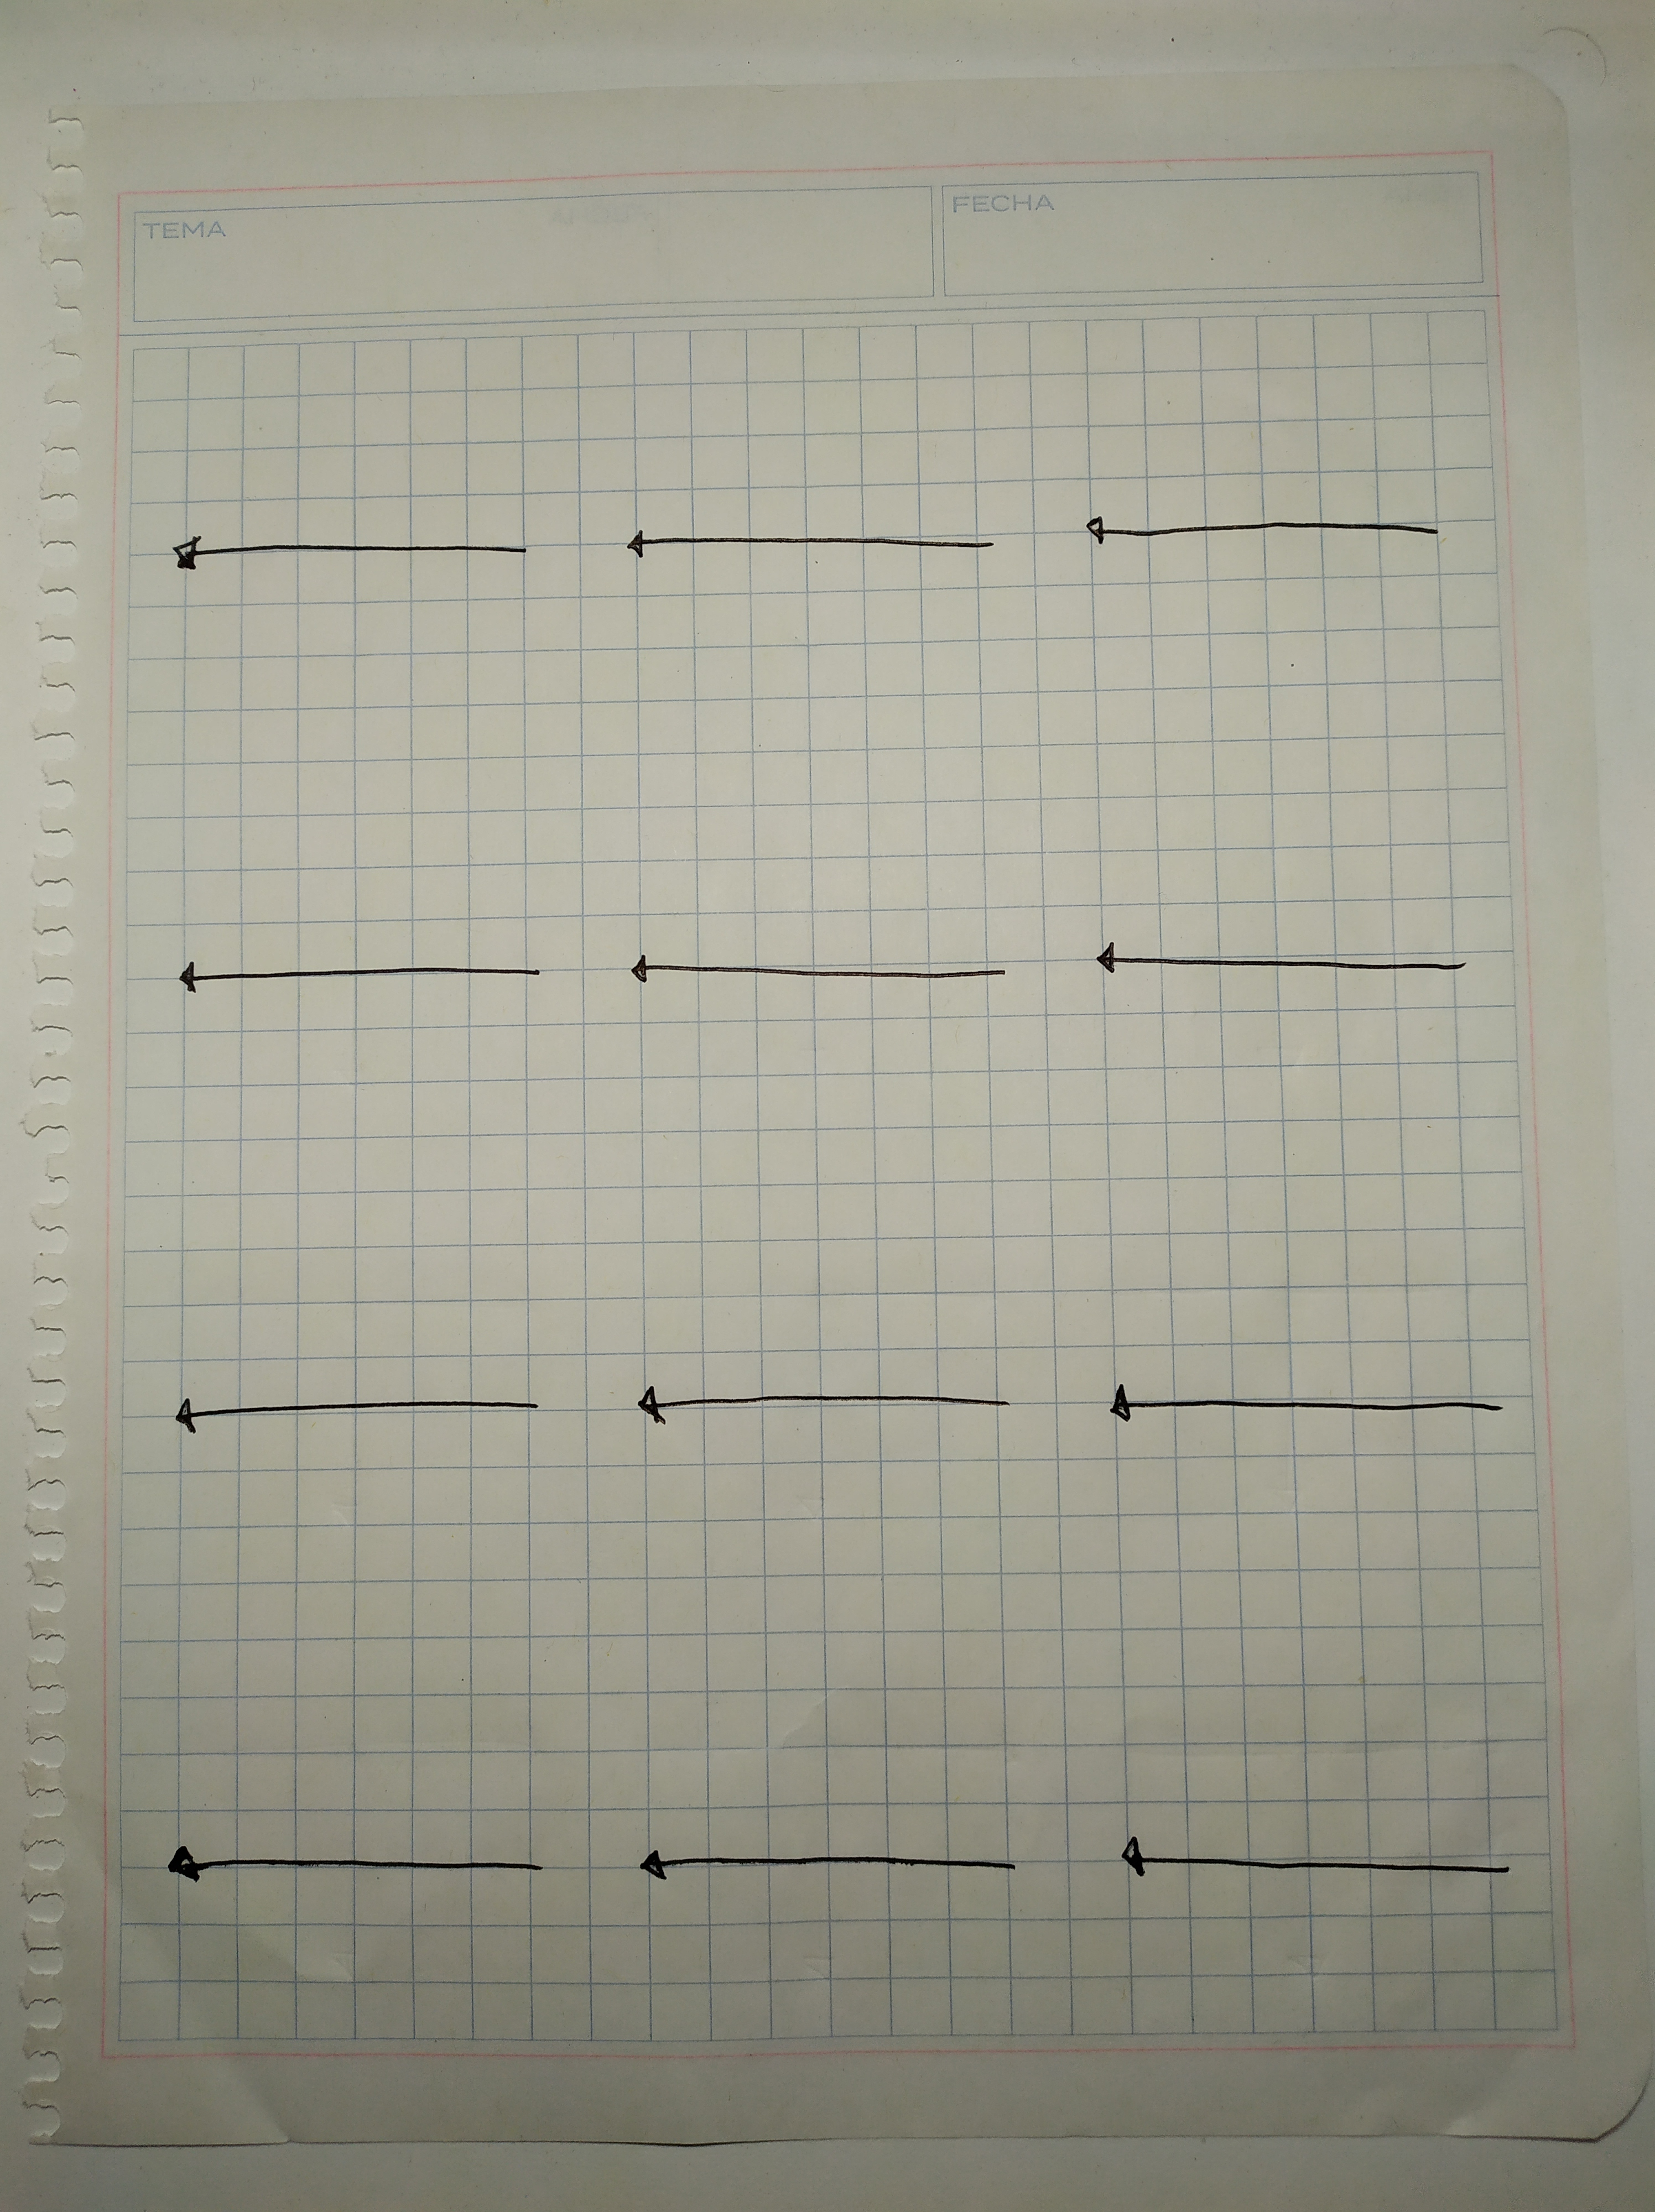arrow_line_left: (134, 500, 546, 622), (1074, 1369, 1535, 1470), (1055, 914, 1495, 1018), (1078, 1819, 1547, 1917), (144, 1814, 555, 1925), (610, 1818, 1034, 1922), (607, 1366, 1041, 1465), (1060, 493, 1471, 596), (595, 502, 1019, 601), (596, 921, 1019, 1020), (153, 1371, 565, 1463), (148, 923, 565, 1011)
